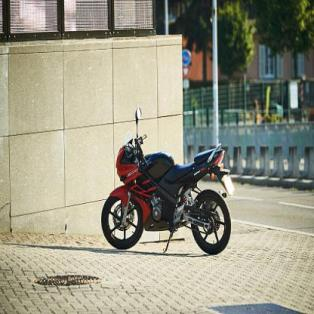Motocicleta: (96, 103, 241, 270)
